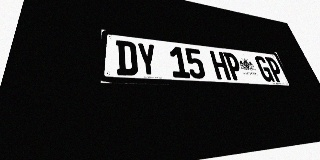1: (168, 46, 190, 78)
5: (184, 48, 207, 79)
D: (116, 40, 138, 76)
G: (254, 56, 275, 82)
H: (209, 50, 231, 80)
P: (223, 52, 245, 81), (265, 57, 286, 82)
Y: (136, 42, 159, 77)
